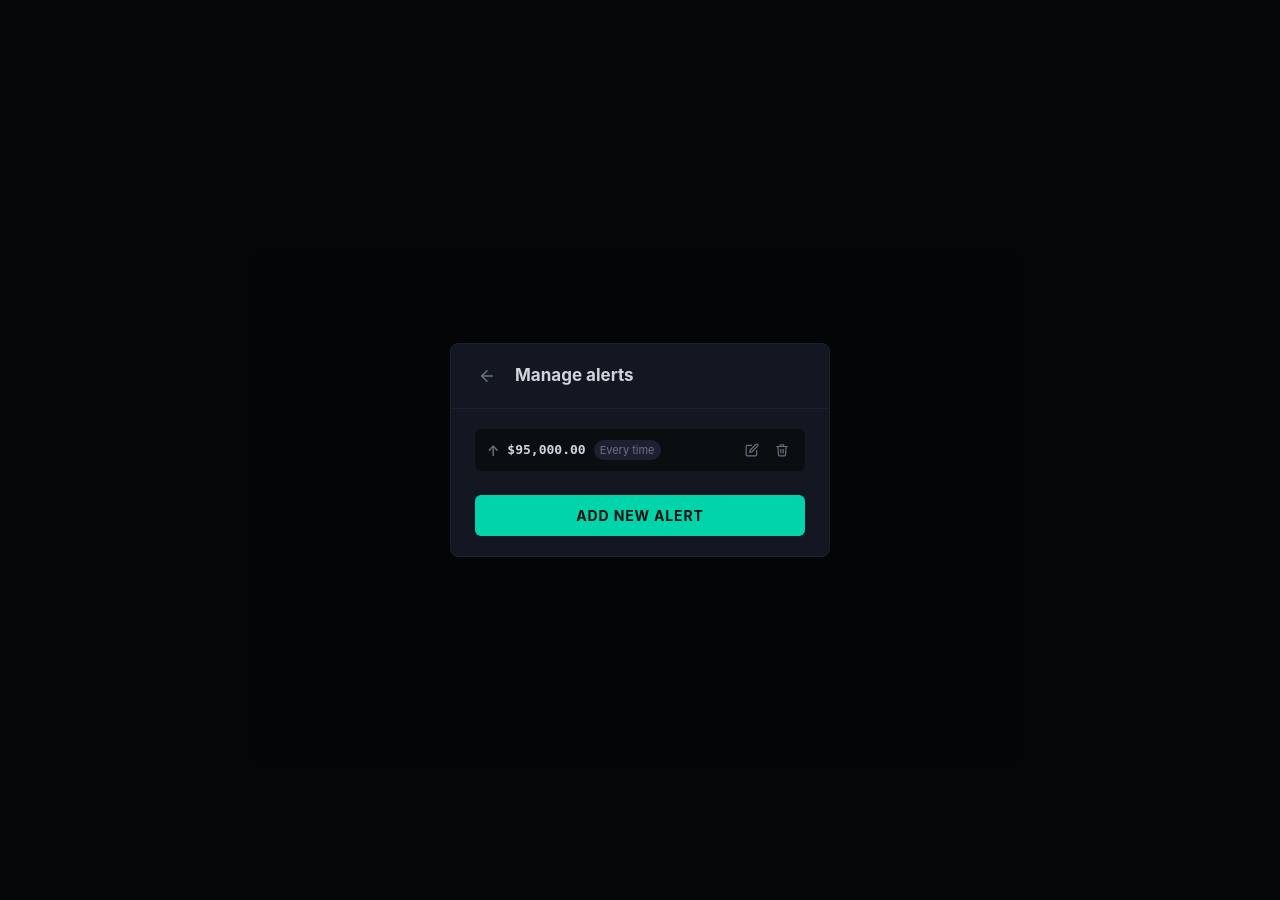
Test: AlertModal › should switch to edit screen when edit button is clicked
Click the button titled "Edit alert" at [752, 450], box [741,439,763,461]
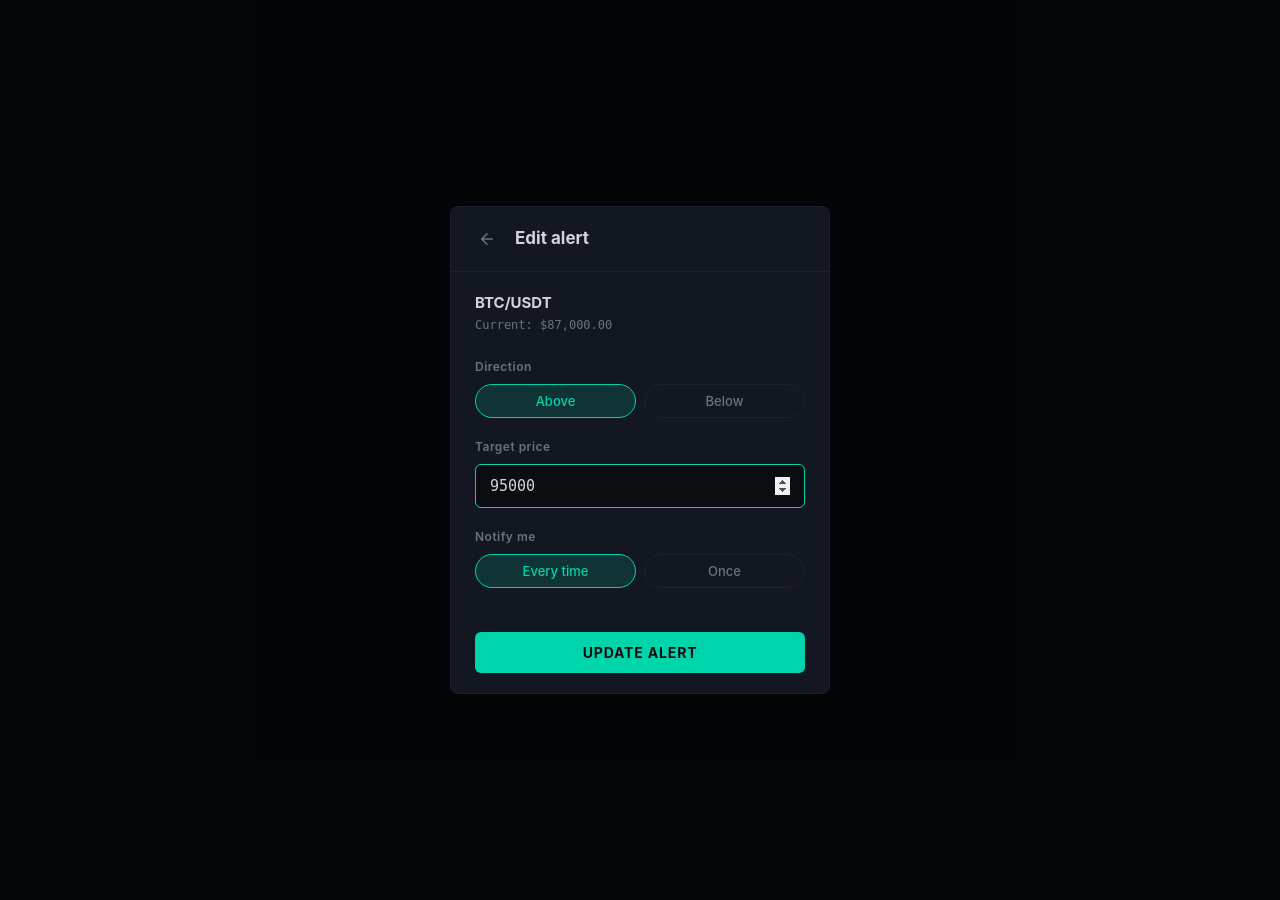
Result: the text "Edit alert" is shown at [515,226,589,252]
Result: the number field holds "95000" at [475,464,805,508]
